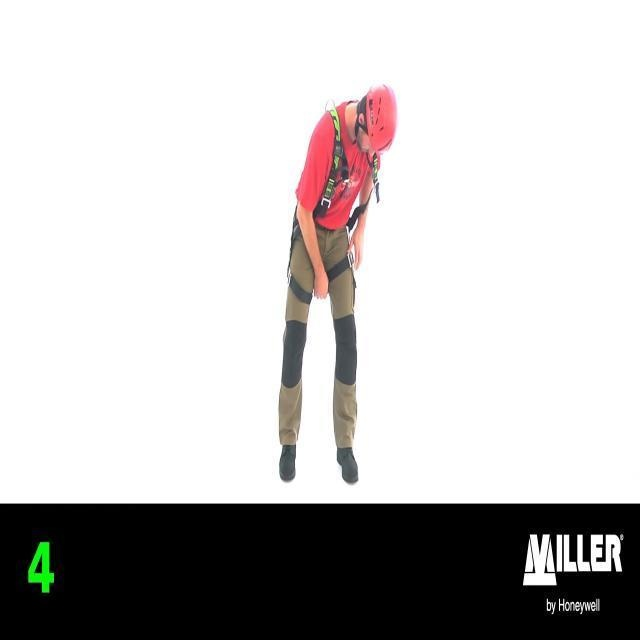Arnes_seguridad: (287, 98, 380, 303)
